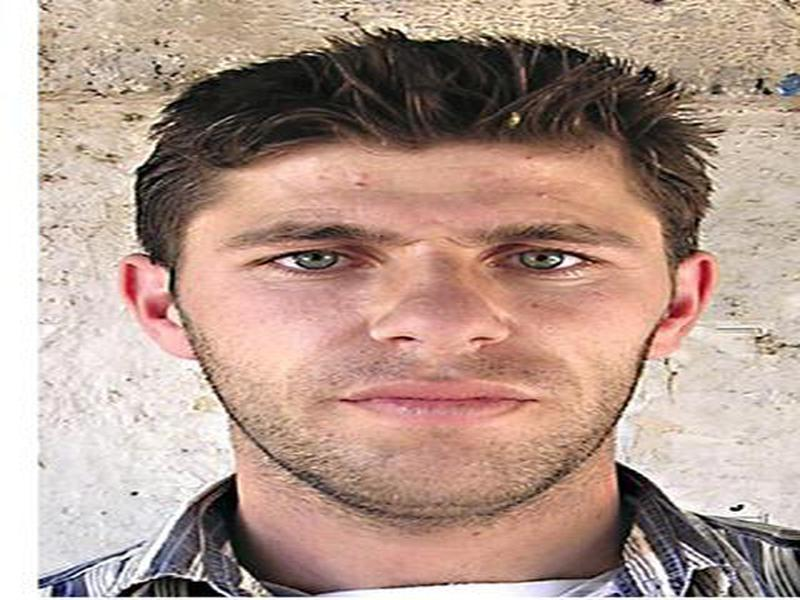without_mask: (165, 138, 670, 521)
